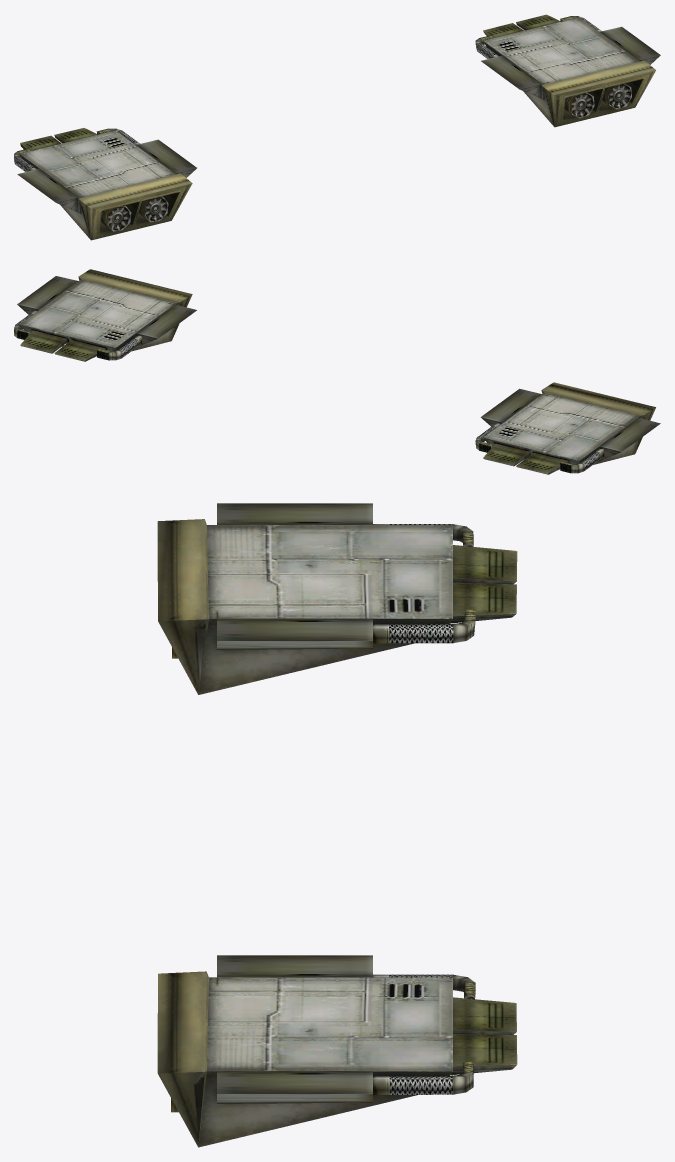
The model's file is z95_missile_pod_s01_l1.fbx.
3 renders of one model, top to bottom at view 1: azimuth 30°, elevation 25°; view 2: azimuth 150°, elevation 25°; view 3: azimuth 270°, elevation 25°, orthographic. The views are drawn at different scales.
Parts seen in each view (by area): view 1: mesh_node; view 2: mesh_node; view 3: mesh_node.
Boxes of the visible parts, <box> form: mesh_node: <box>14,14,660,240</box>; mesh_node: <box>14,269,660,474</box>; mesh_node: <box>157,503,517,1147</box>.
Bounding box in the file's own units: 14.38 × 0.9824 × 3.7.
1 material, 1 textured.
